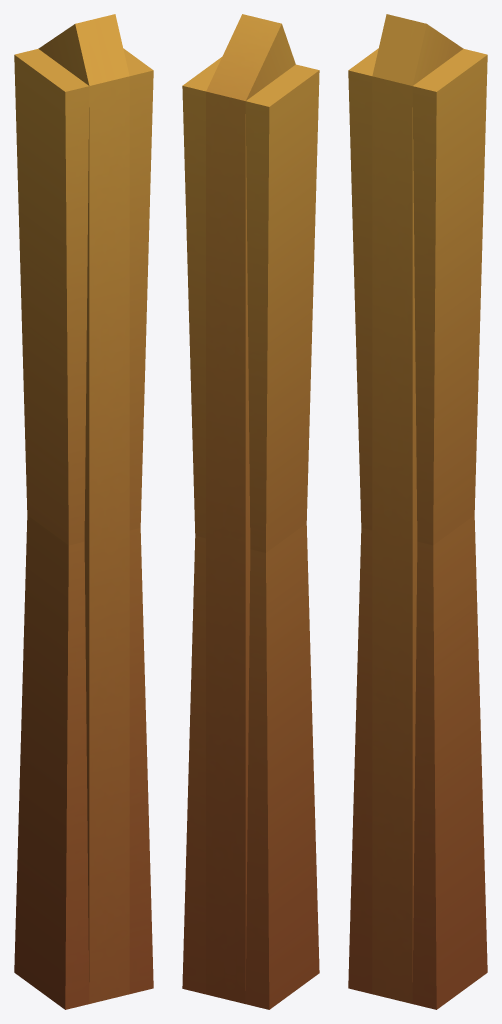
Rendered from Wood.fbx.
The picture shows the model from 3 angles, left to right: view 1: azimuth 30°, elevation 25°; view 2: azimuth 150°, elevation 25°; view 3: azimuth 330°, elevation 25°; orthographic projection.
Parts seen in each view (by area): view 1: Wood; view 2: Wood; view 3: Wood.
Boxes of the visible parts, box(x1,y1,x2,y2) form: Wood: box(14, 14, 153, 1009); Wood: box(182, 14, 319, 1009); Wood: box(348, 14, 487, 1009).
Bounding box in the file's own units: 10.08 × 106 × 10.08.
